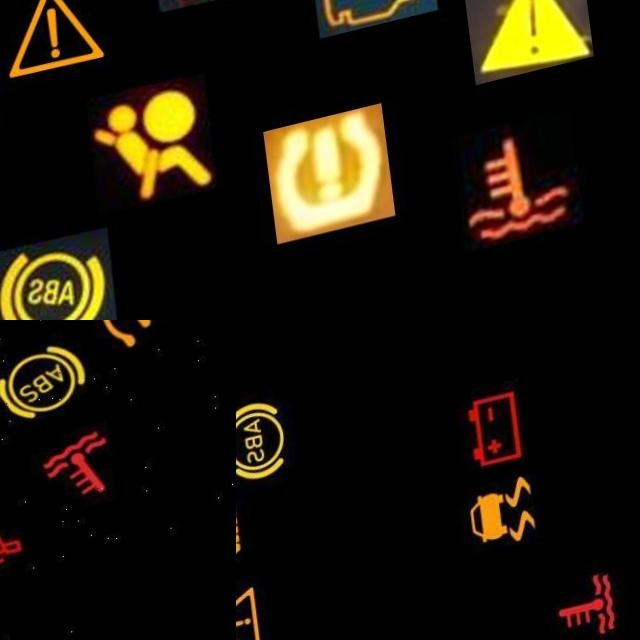Central Warning lamp: (0, 0, 115, 109), (456, 0, 584, 96)
Engine cooling system: (441, 125, 570, 263), (145, 0, 236, 31)
